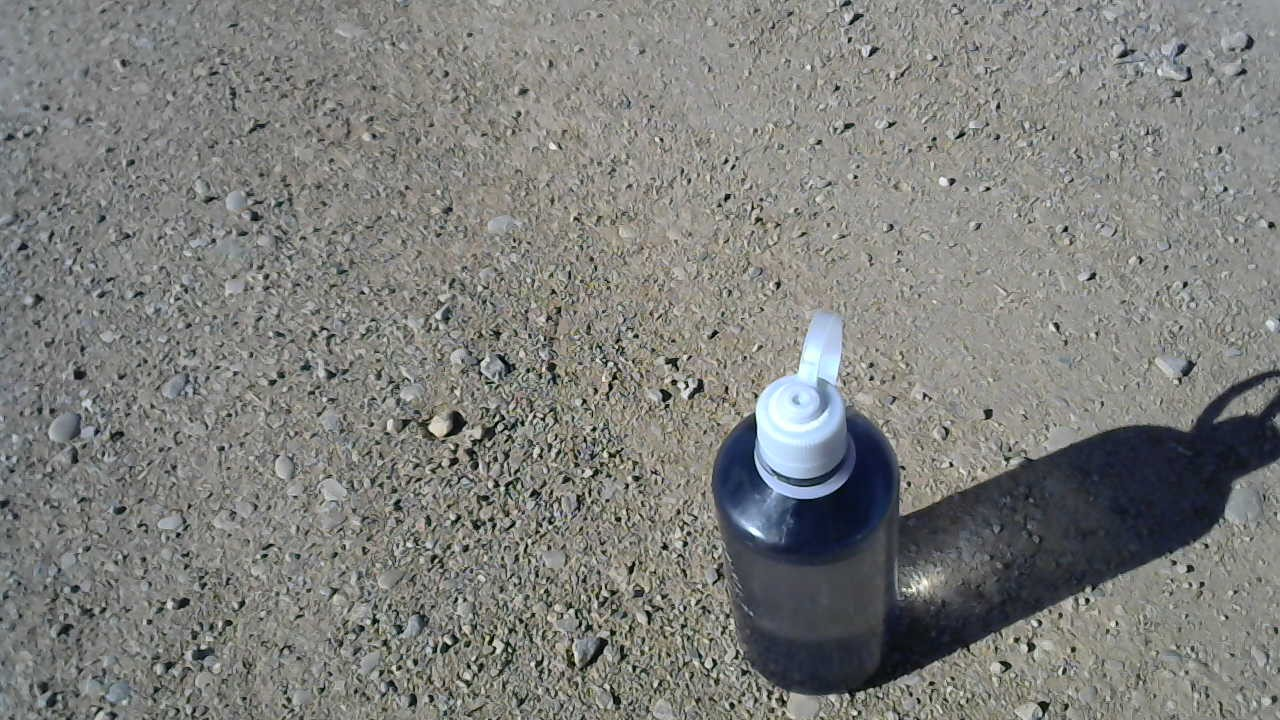bottle: (701, 303, 905, 704)
